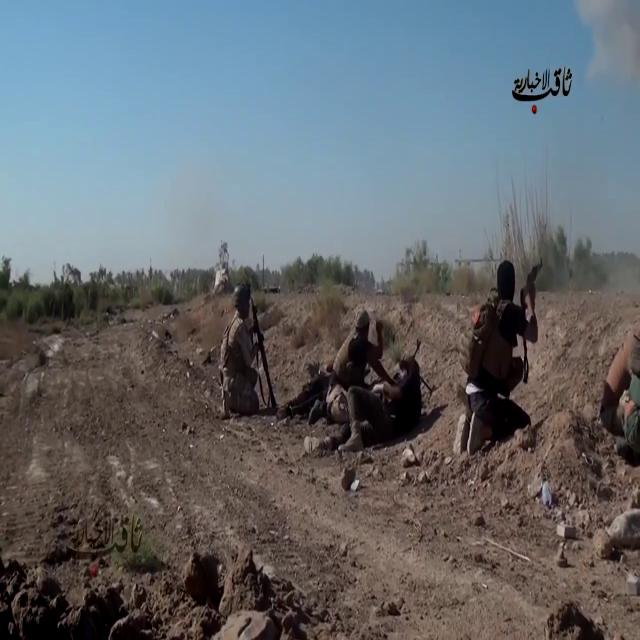long weapon: (248, 294, 288, 418), (518, 248, 548, 328)
